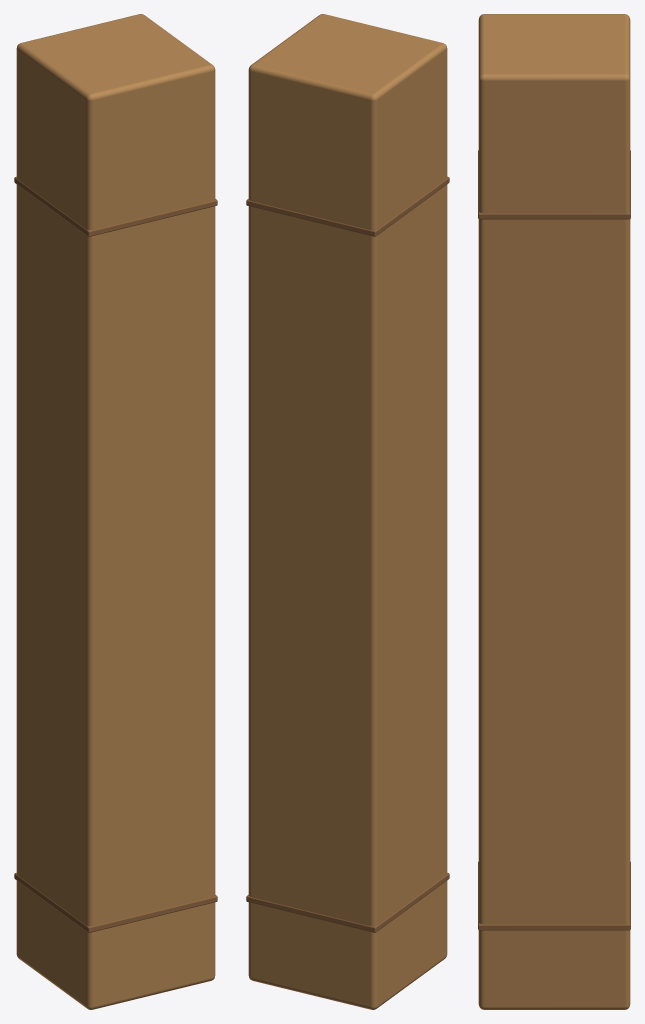
The model's file is table-leg-43-25.glb.
3 renders of one model, left to right at view 1: azimuth 30°, elevation 25°; view 2: azimuth 150°, elevation 25°; view 3: azimuth 270°, elevation 25°, orthographic. The views are drawn at different scales.
Parts seen in each view (by area): view 1: wood, edge; view 2: wood, edge; view 3: wood, edge.
Part boxes in pixels (bbox=[...]): wood: bbox=[16, 14, 215, 1009]; edge: bbox=[14, 176, 217, 932]; wood: bbox=[248, 14, 447, 1009]; edge: bbox=[246, 176, 449, 932]; wood: bbox=[478, 14, 630, 1009]; edge: bbox=[478, 150, 630, 930].
Bounding box in the file's own units: 2.22 × 15 × 2.22.
